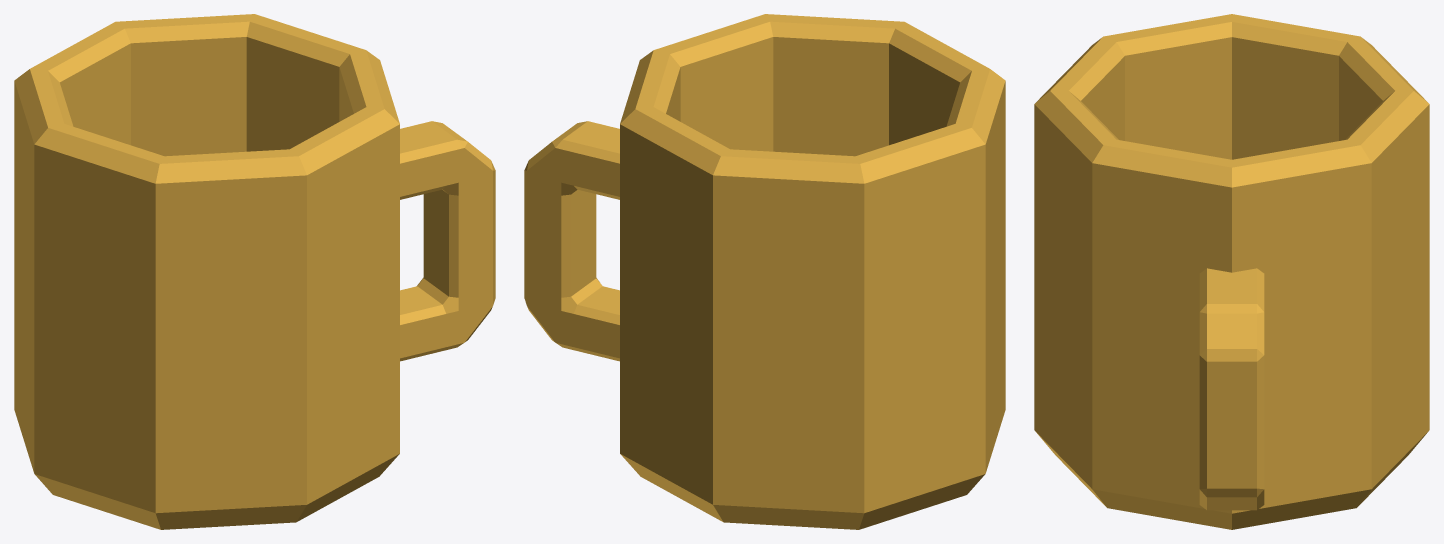
The model's file is mug.gltf.
The picture shows the model from 3 angles, left to right: view 1: azimuth 30°, elevation 25°; view 2: azimuth 150°, elevation 25°; view 3: azimuth 270°, elevation 25°; orthographic projection.
Visible parts, largest first — view 1: Mug; view 2: Mug; view 3: Mug.
Part boxes in pixels (x1,y1,x2,y2): Mug: (14, 14, 495, 529); Mug: (524, 14, 1005, 529); Mug: (1034, 14, 1429, 529).
Size of the model in its own units: 0.6799 by 0.5433 by 0.5241.
